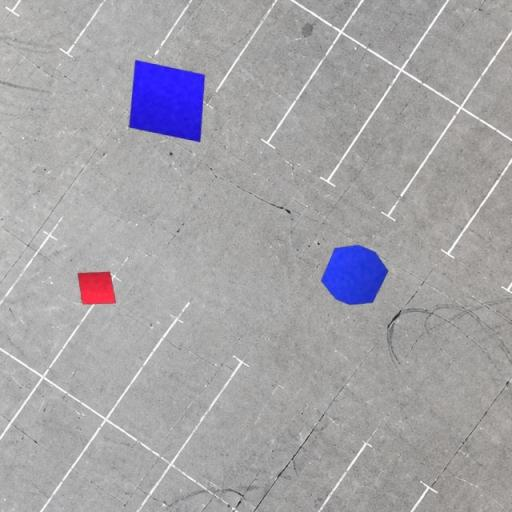BLUE_SQUARE: (128, 60, 206, 142)
RED_SQUARE: (77, 271, 117, 306)
